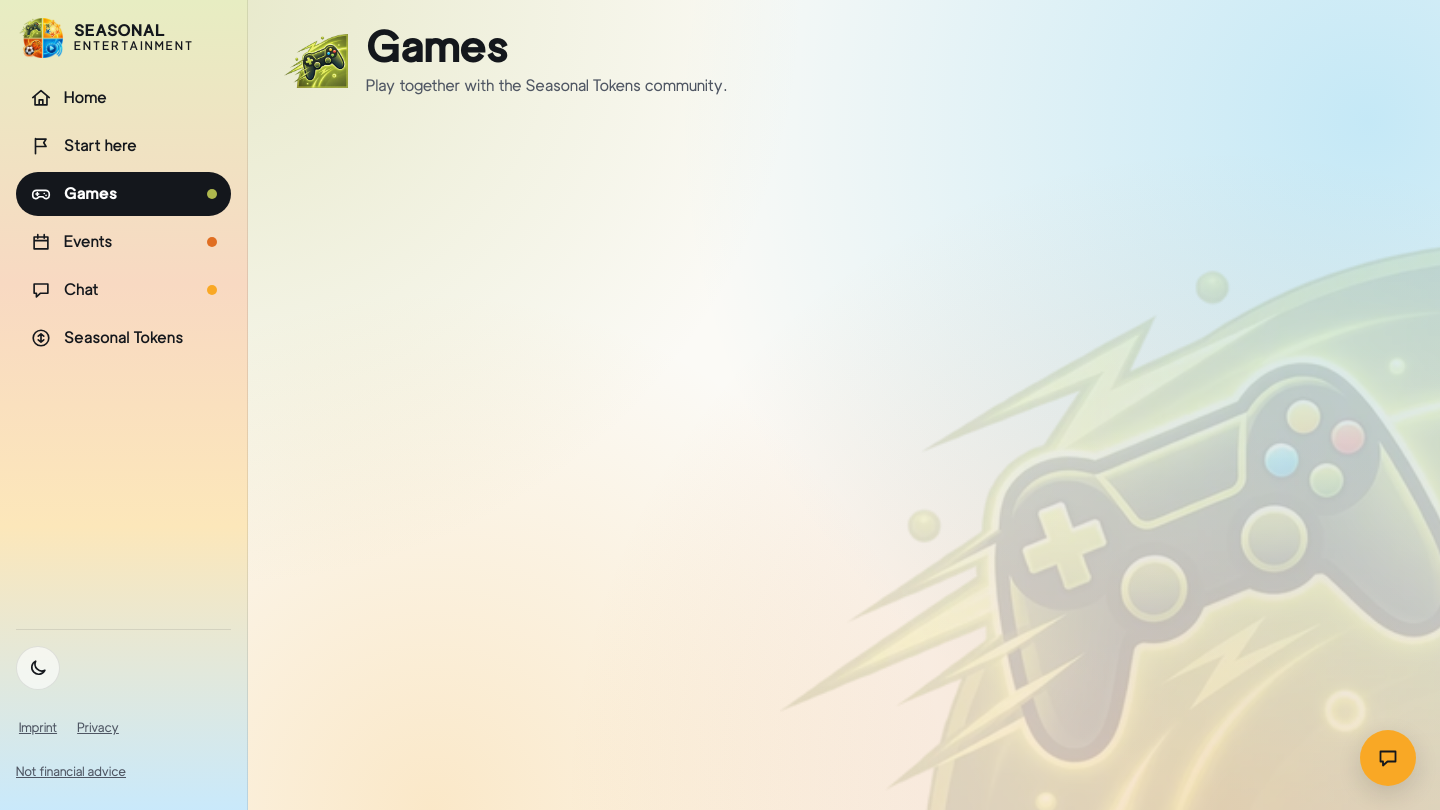
Scenario: guests have no tabs: no direct messages
Click the button named "Chat". click: (1388, 758)
box: [1360,730,1416,786]
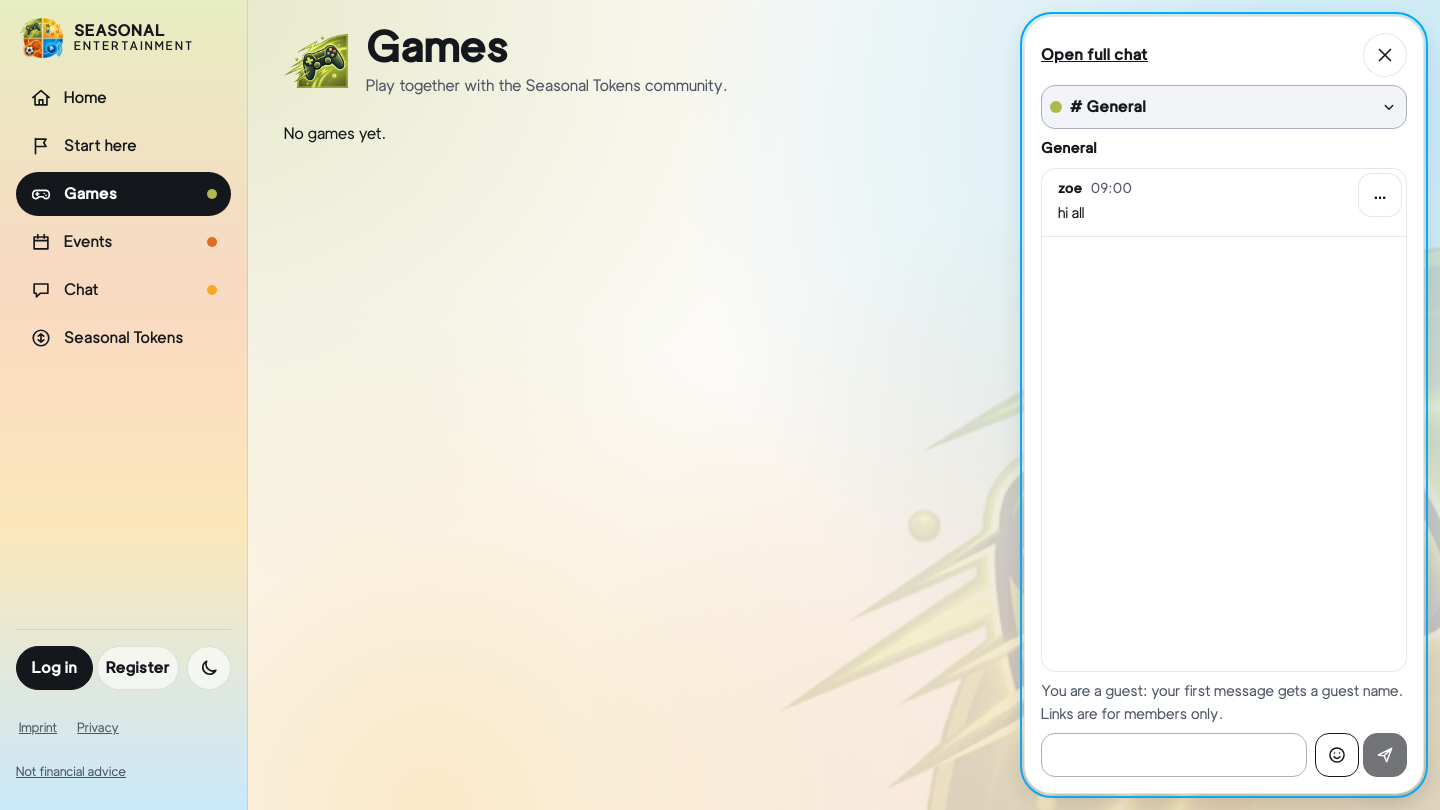
Check: the text "hi all" is shown, box [1058,204,1084,222]
